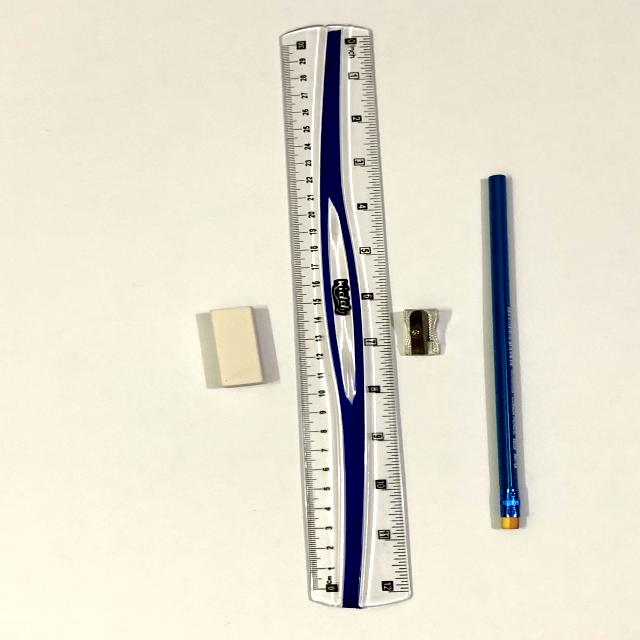Eraser: (186, 296, 284, 404)
Pencil: (455, 170, 563, 552)
Scale: (267, 6, 442, 625)
Sharpner: (392, 305, 458, 365)
